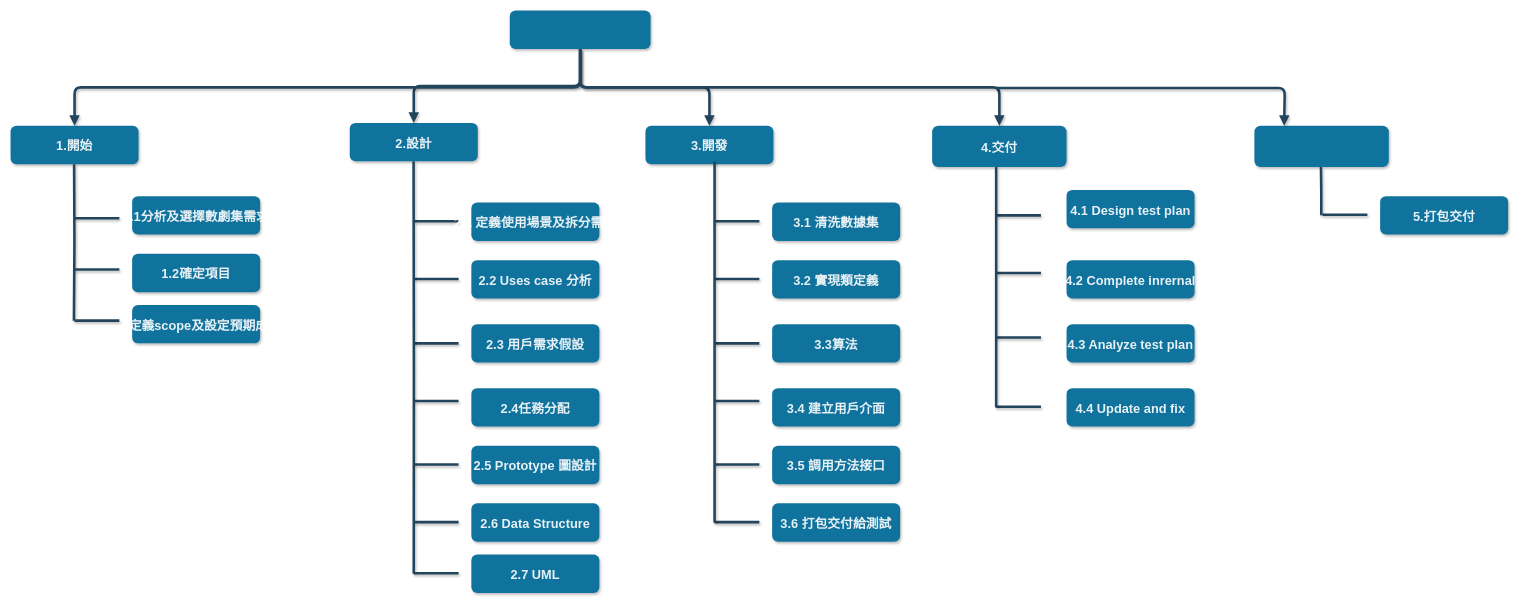
Some shapes in this 1519 by 604 pixel diagram are drawn without their labels. Here are the shapes that lost their labels. From the top down, the centre of each, then its label:
At point 580,30: "WBS大綱".
At point 1322,147: "5.1 交付".
